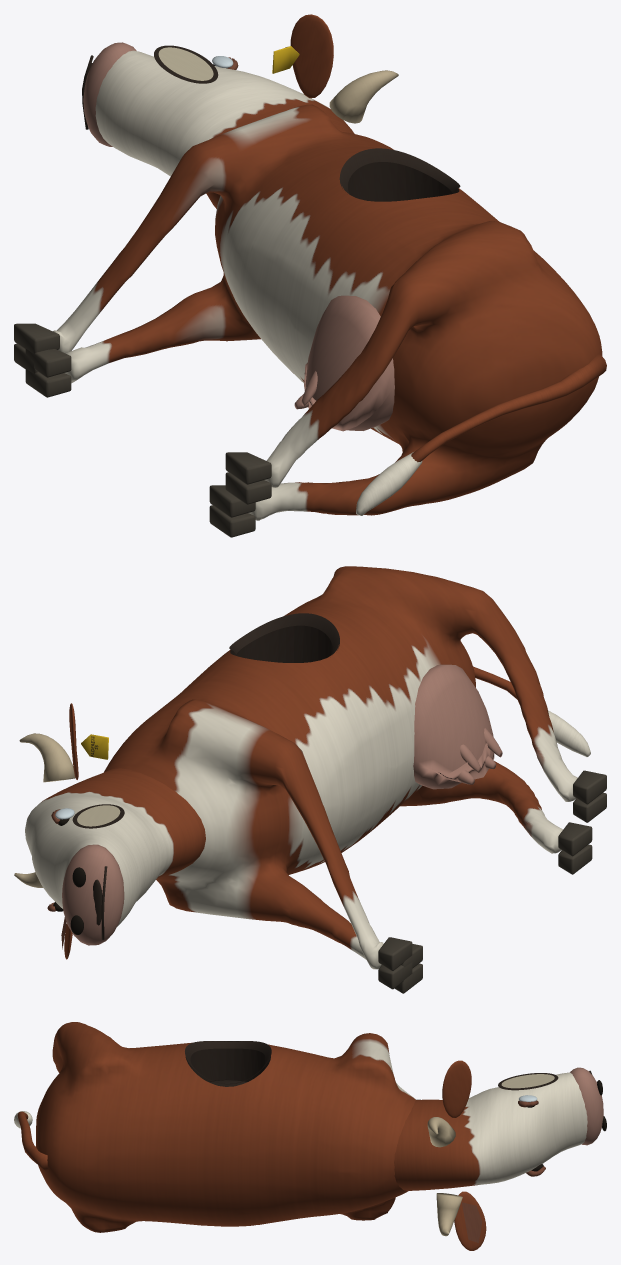
Rendered from SM_Cow_Abducted_LOD1.fbx.
3 renders of one model, top to bottom at view 1: azimuth 30°, elevation 25°; view 2: azimuth 150°, elevation 25°; view 3: azimuth 270°, elevation 25°, orthographic. The views are drawn at different scales.
Visible parts, largest first — view 1: SM_Cow_Abducted_LOD1; view 2: SM_Cow_Abducted_LOD1; view 3: SM_Cow_Abducted_LOD1.
Boxes of the visible parts, box(x1,y1,x2,y2) form: SM_Cow_Abducted_LOD1: box(14, 14, 606, 537); SM_Cow_Abducted_LOD1: box(14, 566, 606, 993); SM_Cow_Abducted_LOD1: box(14, 1022, 606, 1250).
Bounding box in the file's own units: 1.58 × 2.84 × 1.02.
